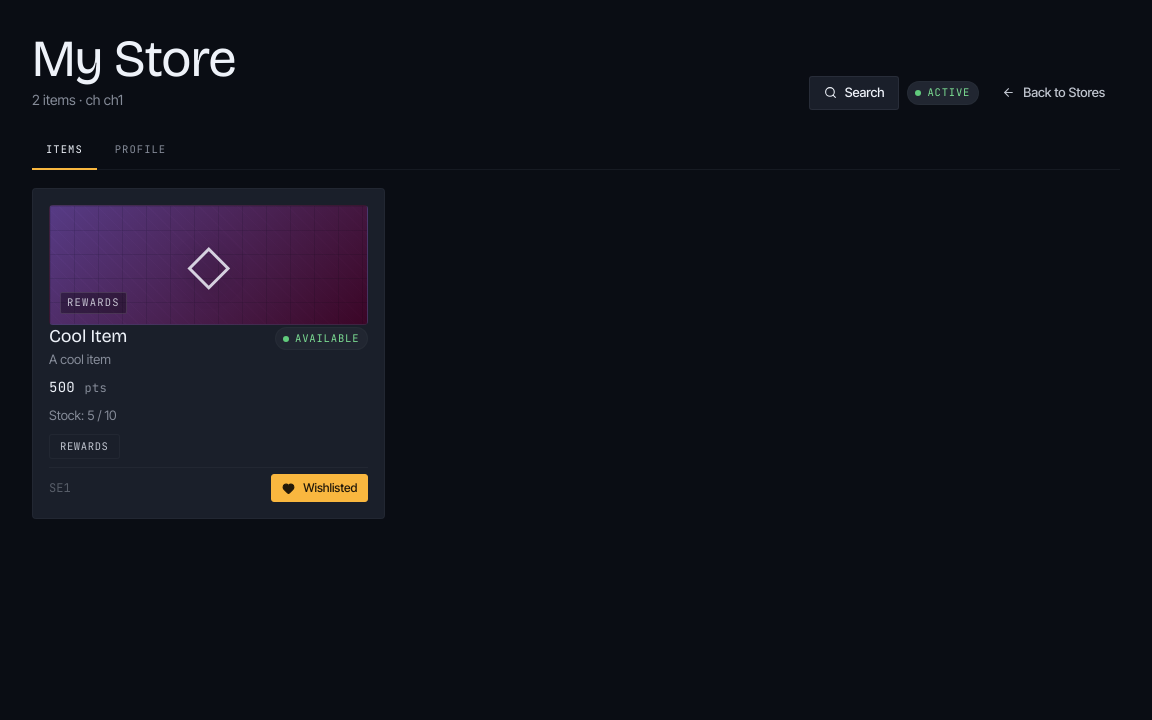
it: StoreDetailPage — editing a wishlisted item › shows the backend's reason when the fetch is refused with a code
Click the button "Wishlisted".
click(320, 488)  # box [271,474,368,502]
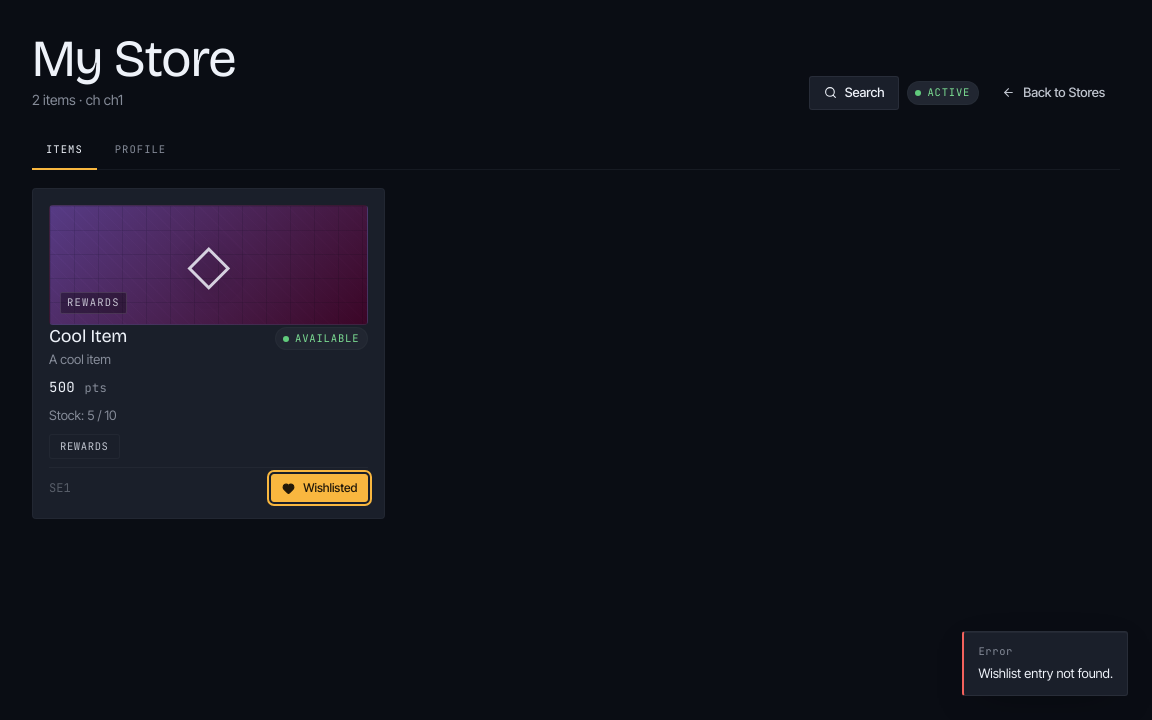
Expected: the text "Wishlist entry not found." is shown, [978,664,1113,683]
